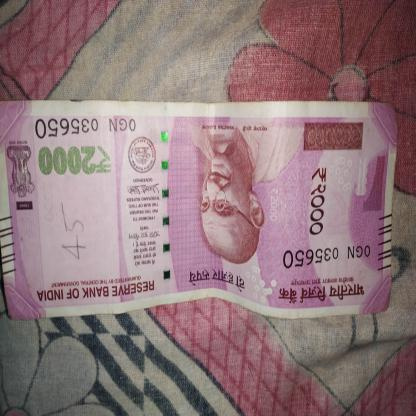New2000Front: (0, 103, 399, 318)
